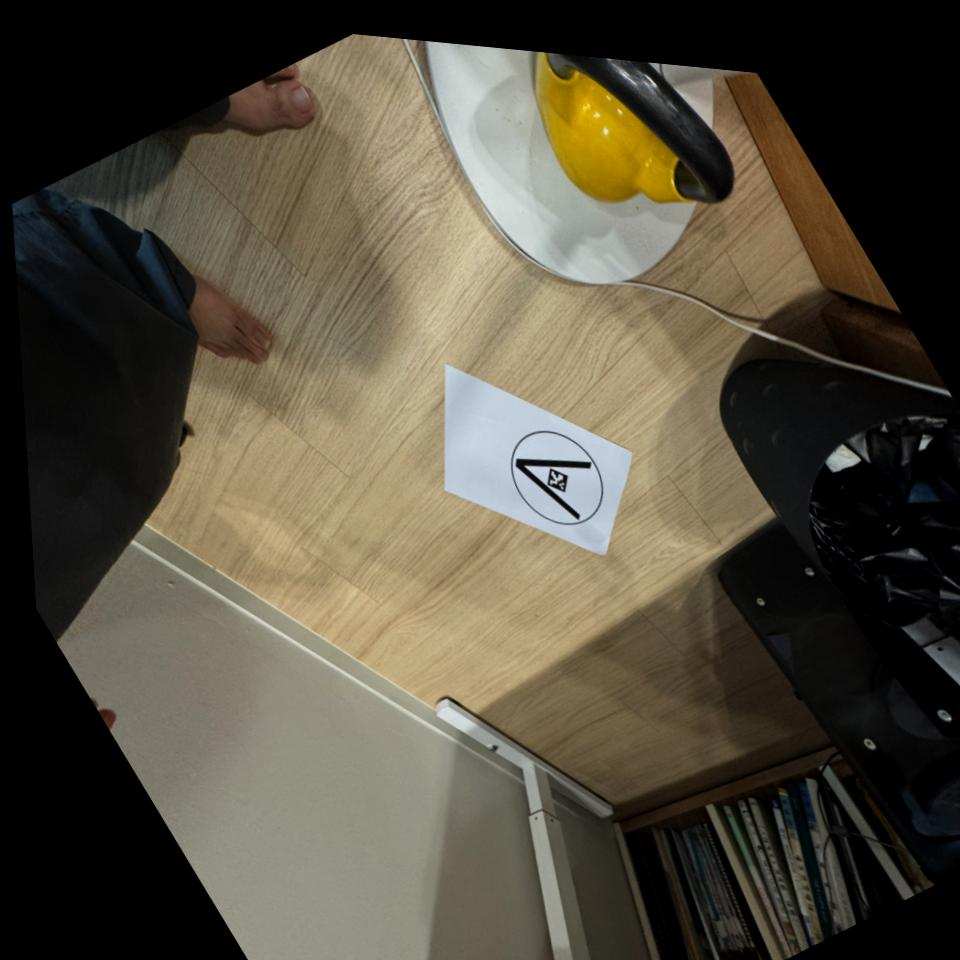vertiport: (484, 403, 629, 556)
